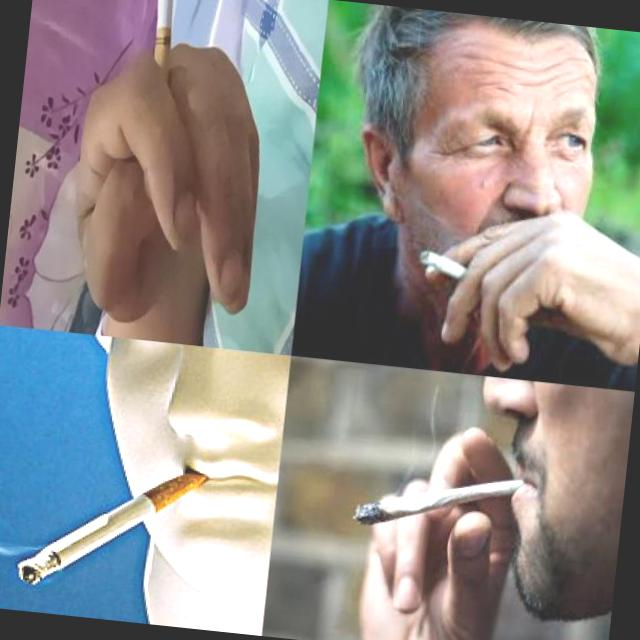cigarette: (18, 451, 214, 602), (350, 462, 524, 542), (143, 0, 179, 118), (416, 248, 478, 282)
